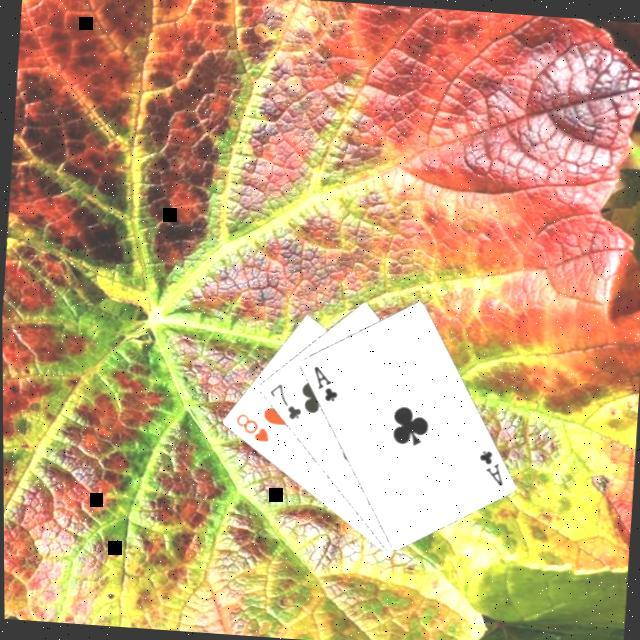7C: (261, 380, 304, 424)
8H: (229, 409, 271, 446)
AC: (470, 446, 506, 490), (306, 362, 340, 406)
